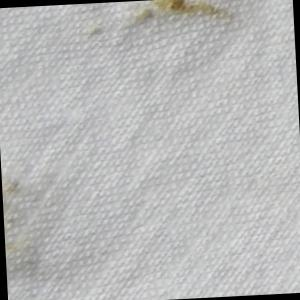Oil Stain: (81, 1, 246, 45)
Stain: (2, 171, 38, 260)
